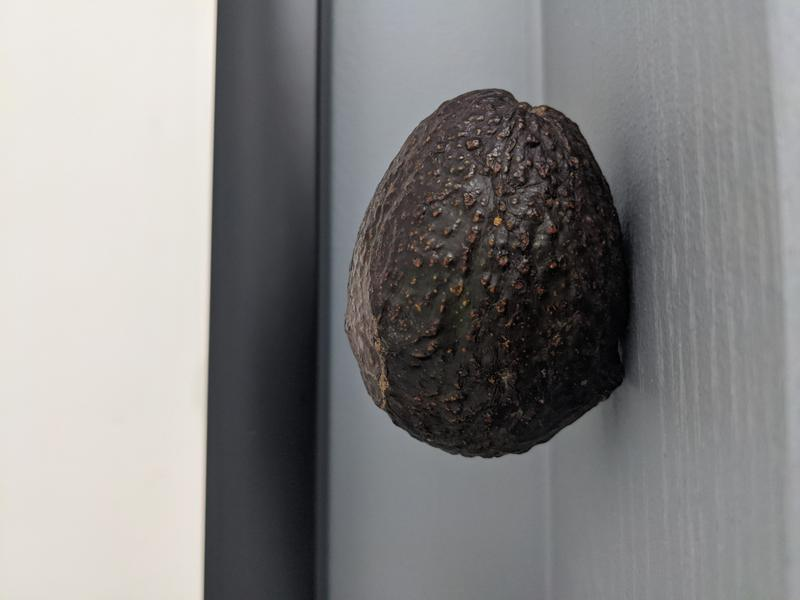avocado: (344, 88, 633, 460)
